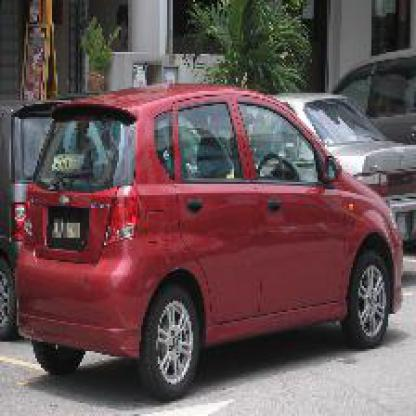not_emergency: (22, 58, 407, 384)
